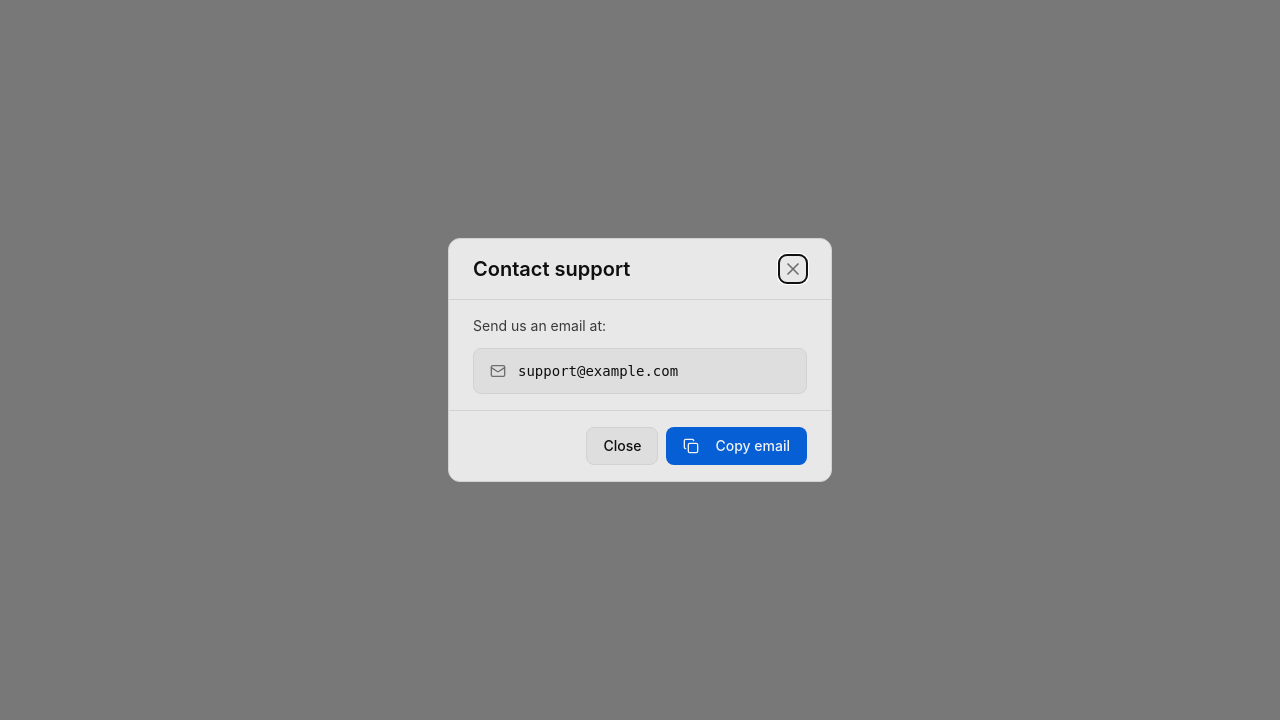
SupportModal › shows 'Failed' when clipboard write rejects
This screenshot has width=1280, height=720.
Click the button "Copy email".
click(737, 446)  # box [666,427,807,465]
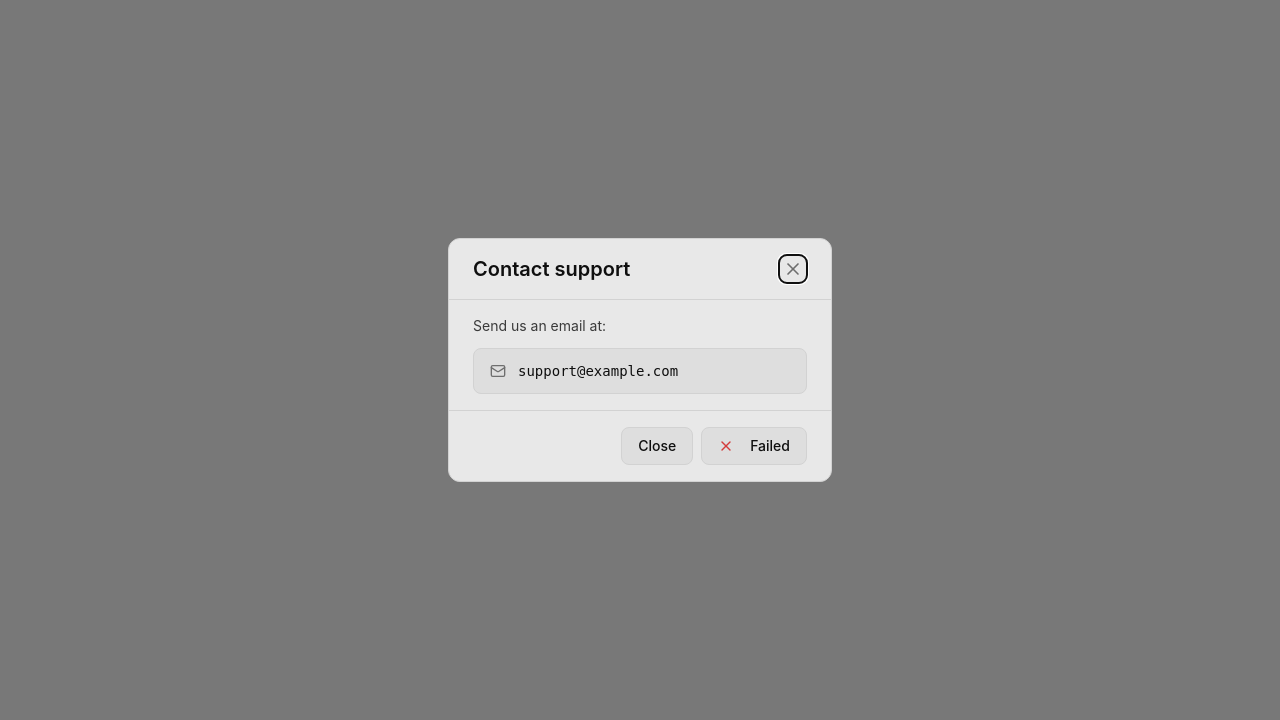
Check: the button "Failed" is shown, box [701,427,807,465]
